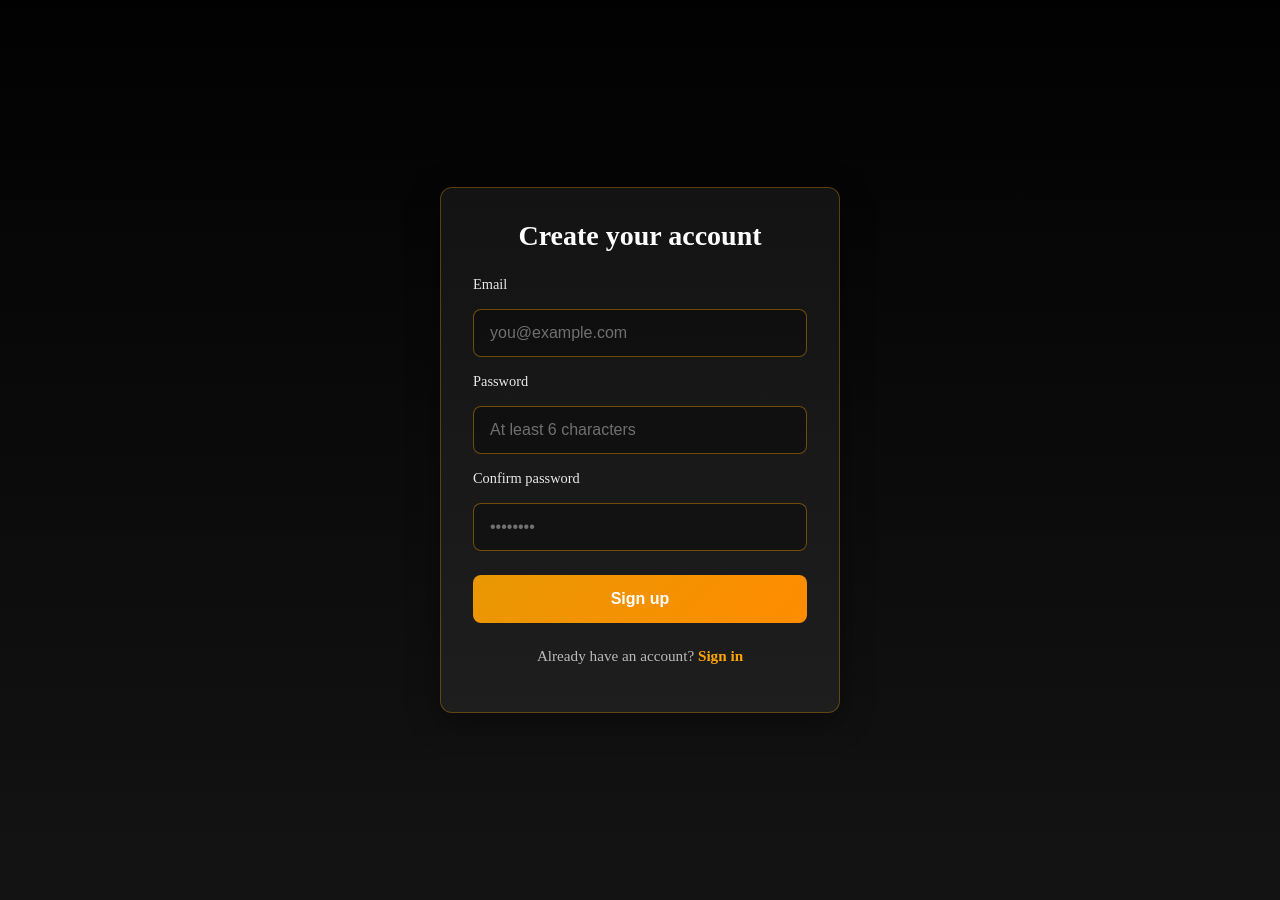
Test case: Auth (integration) › Signup: full flow with validation - password mismatch shows error
Type "new@test.com" into the field labelled "Email" at (640, 333), box [473,309,807,357]
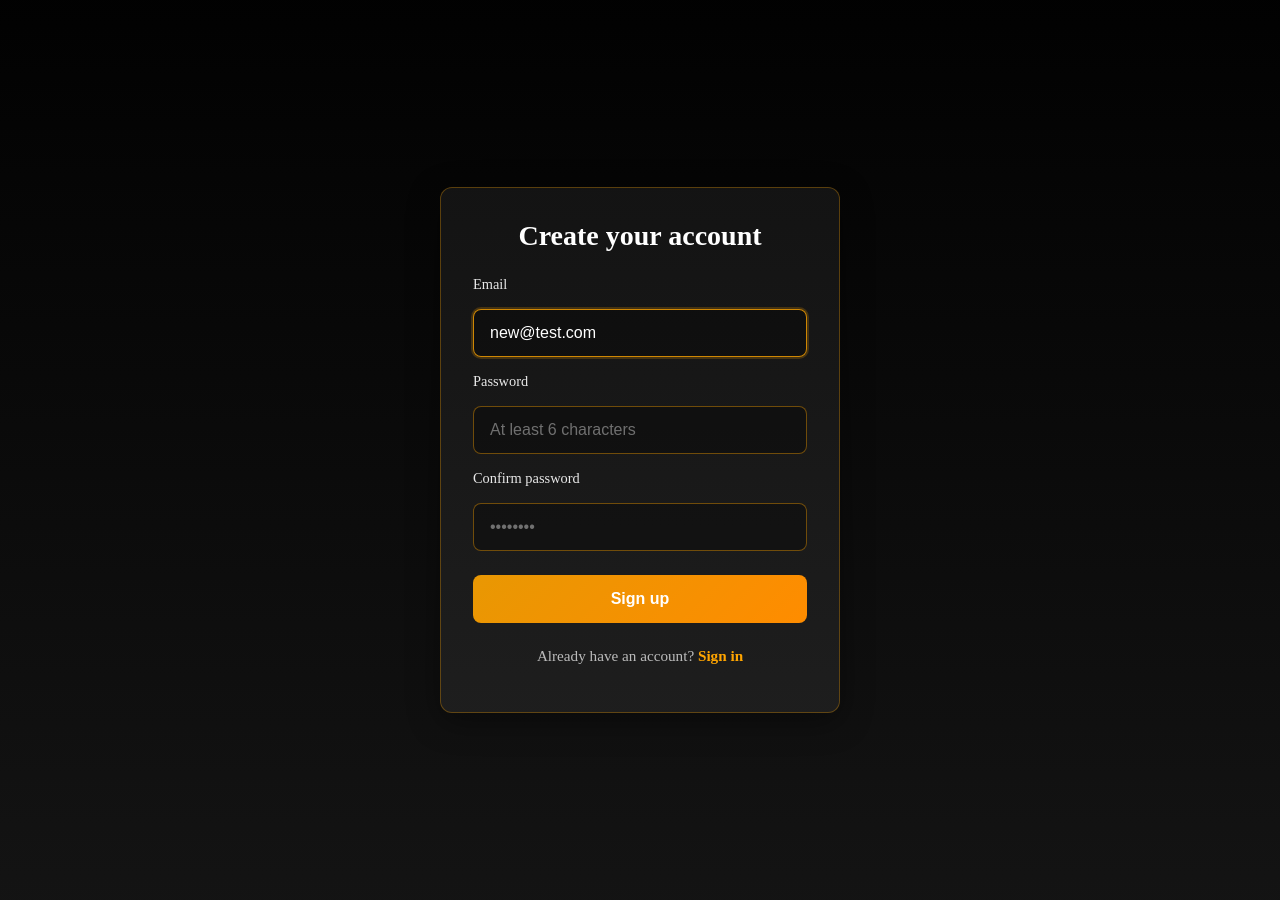
Type "password123" into the password field labelled "Password" at (640, 430), box [473,406,807,454]
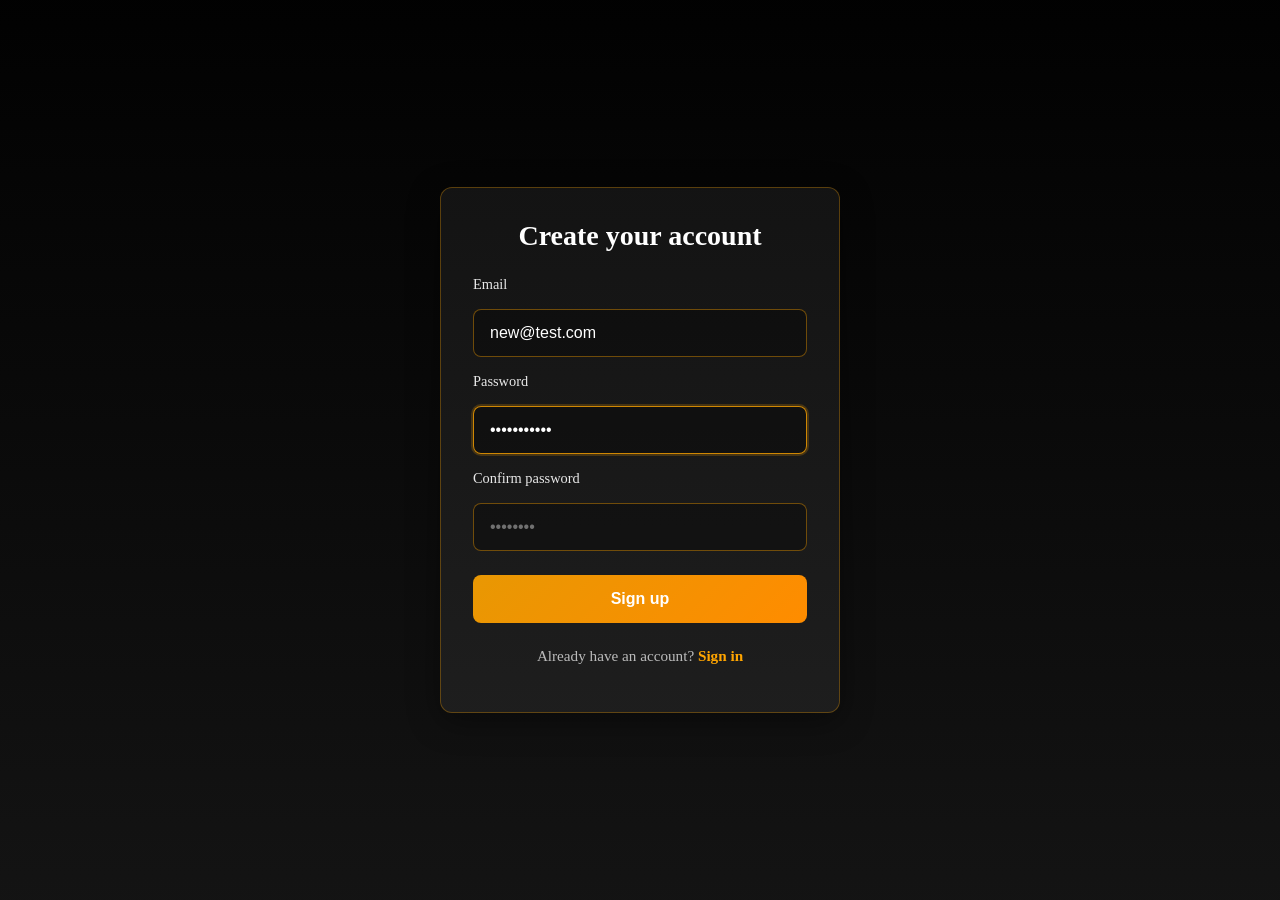
Type "different" into the password field labelled "Confirm password" at (640, 527), box [473,503,807,551]
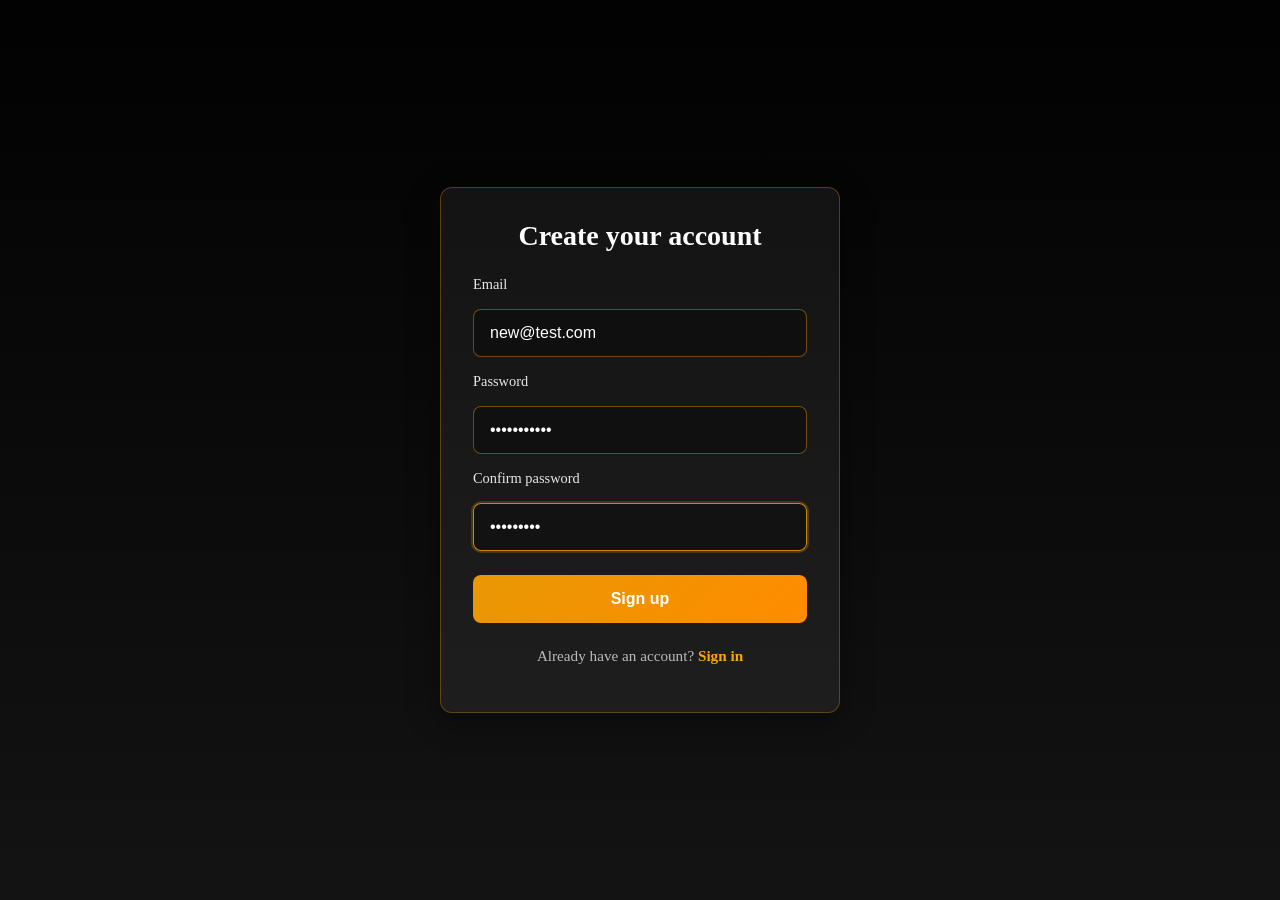
Click the button "Sign up" at (640, 599), box [473,575,807,623]
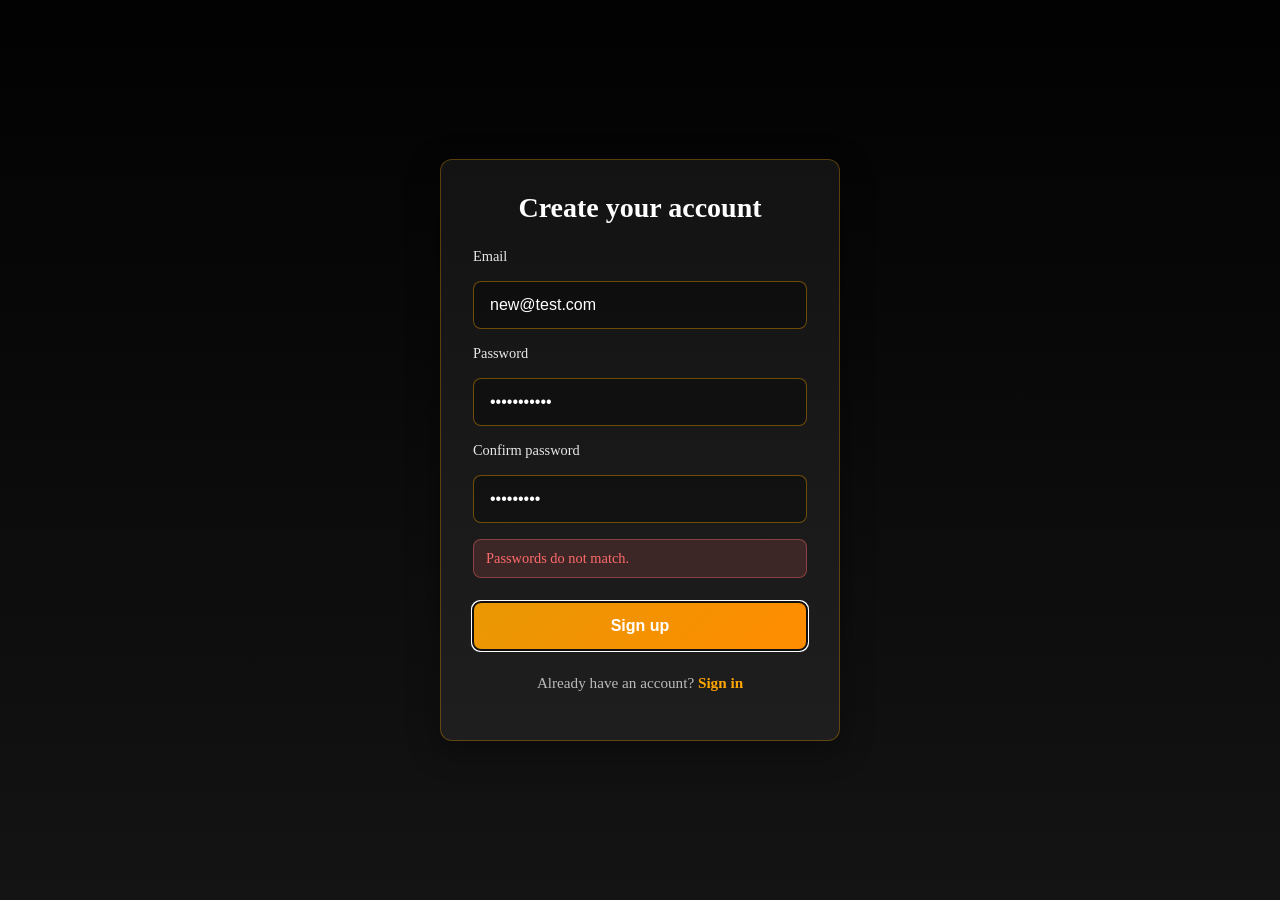
expect the text "Passwords do not match." is shown: met, box [473,539,807,578]
